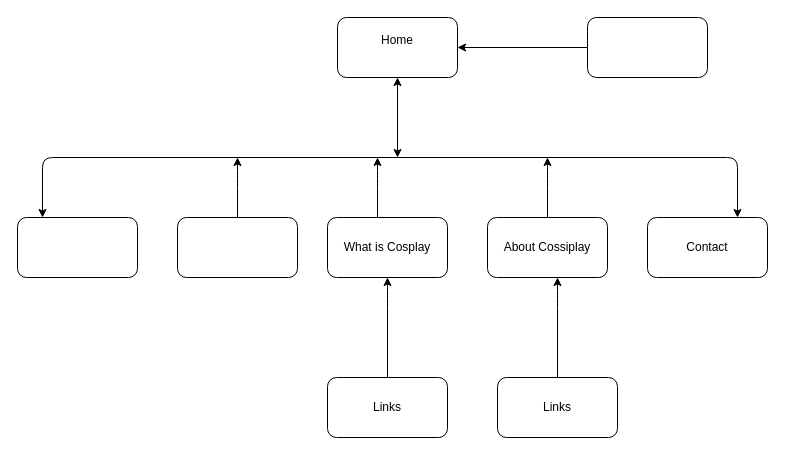
Image size: 785x455. Some labels were removed from this diagram. Here are the shapes that lost their labels. From the top down, the centre of each, then its label:
At (647,47): "Sign up".
At (77,247): "Announcement".
At (237,247): "History".
